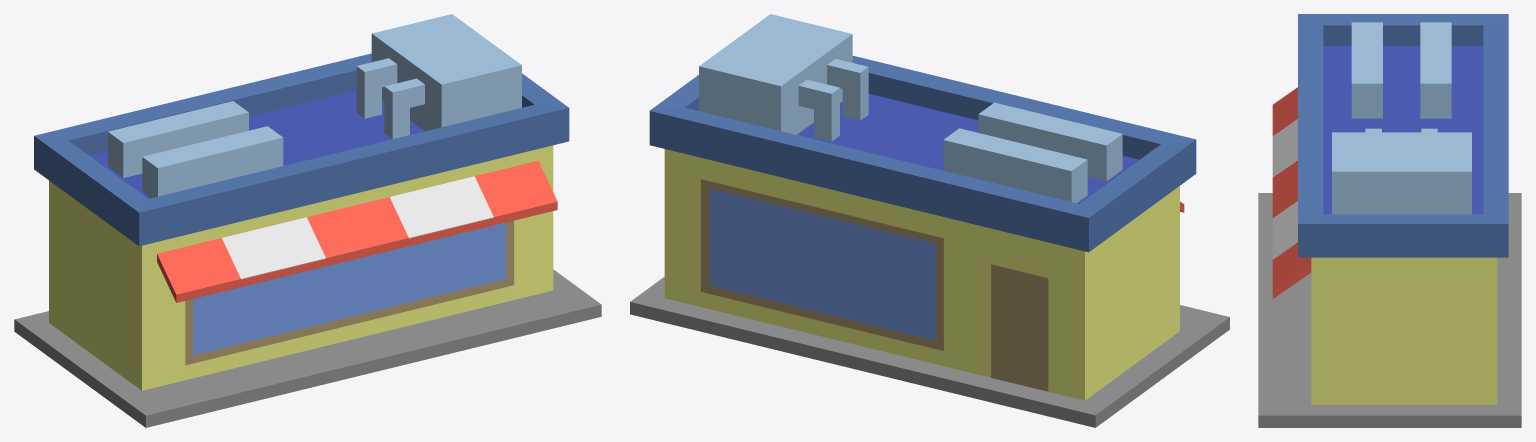
File: Market_4.FBX
3 views of the same model, side by side, from view 1: azimuth 30°, elevation 25°; view 2: azimuth 150°, elevation 25°; view 3: azimuth 270°, elevation 25° (orthographic). The views are drawn at different scales.
Parts seen in each view (by area): view 1: Box004, Box002; view 2: Box004, Box002; view 3: Box004, Box002.
Boxes of the visible parts, x1,y1,x2,y2 form: Box004: (34,14,569,390); Box002: (14,269,601,427); Box004: (649,14,1196,400); Box002: (630,277,1229,427); Box004: (1272,14,1508,404); Box002: (1258,193,1521,427).
Bounding box in the file's own units: 2 × 0.9864 × 1.
Materials: 6 (5 with a texture image).
